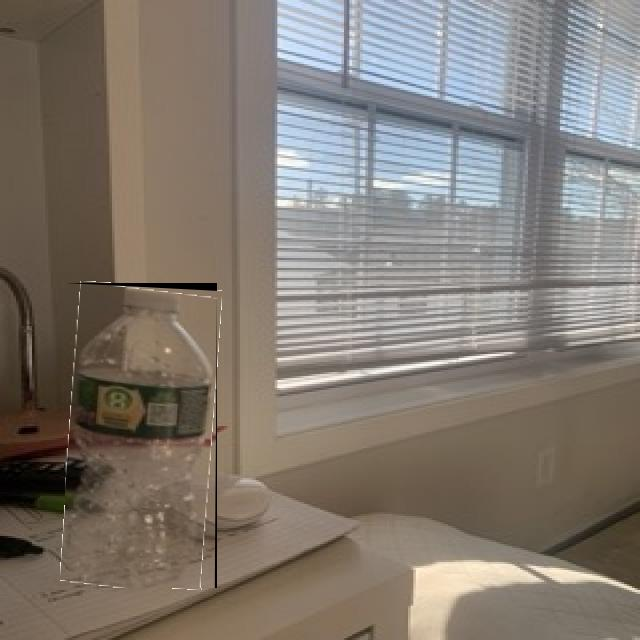water_bottle: (65, 283, 217, 588)
